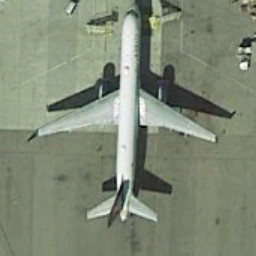Airplane: (17, 2, 222, 239)
